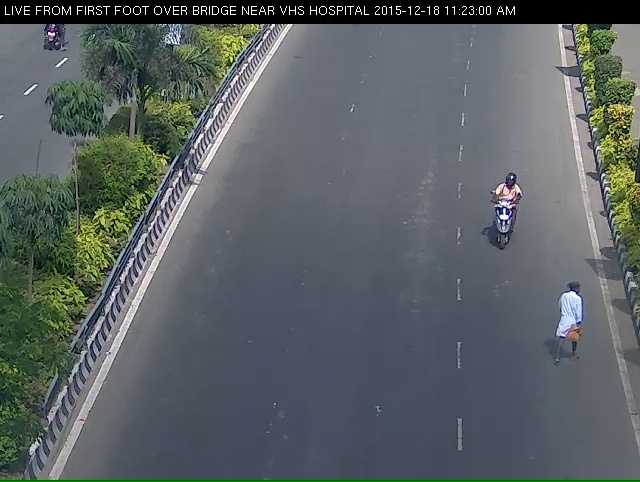Person: (486, 179, 525, 267)
